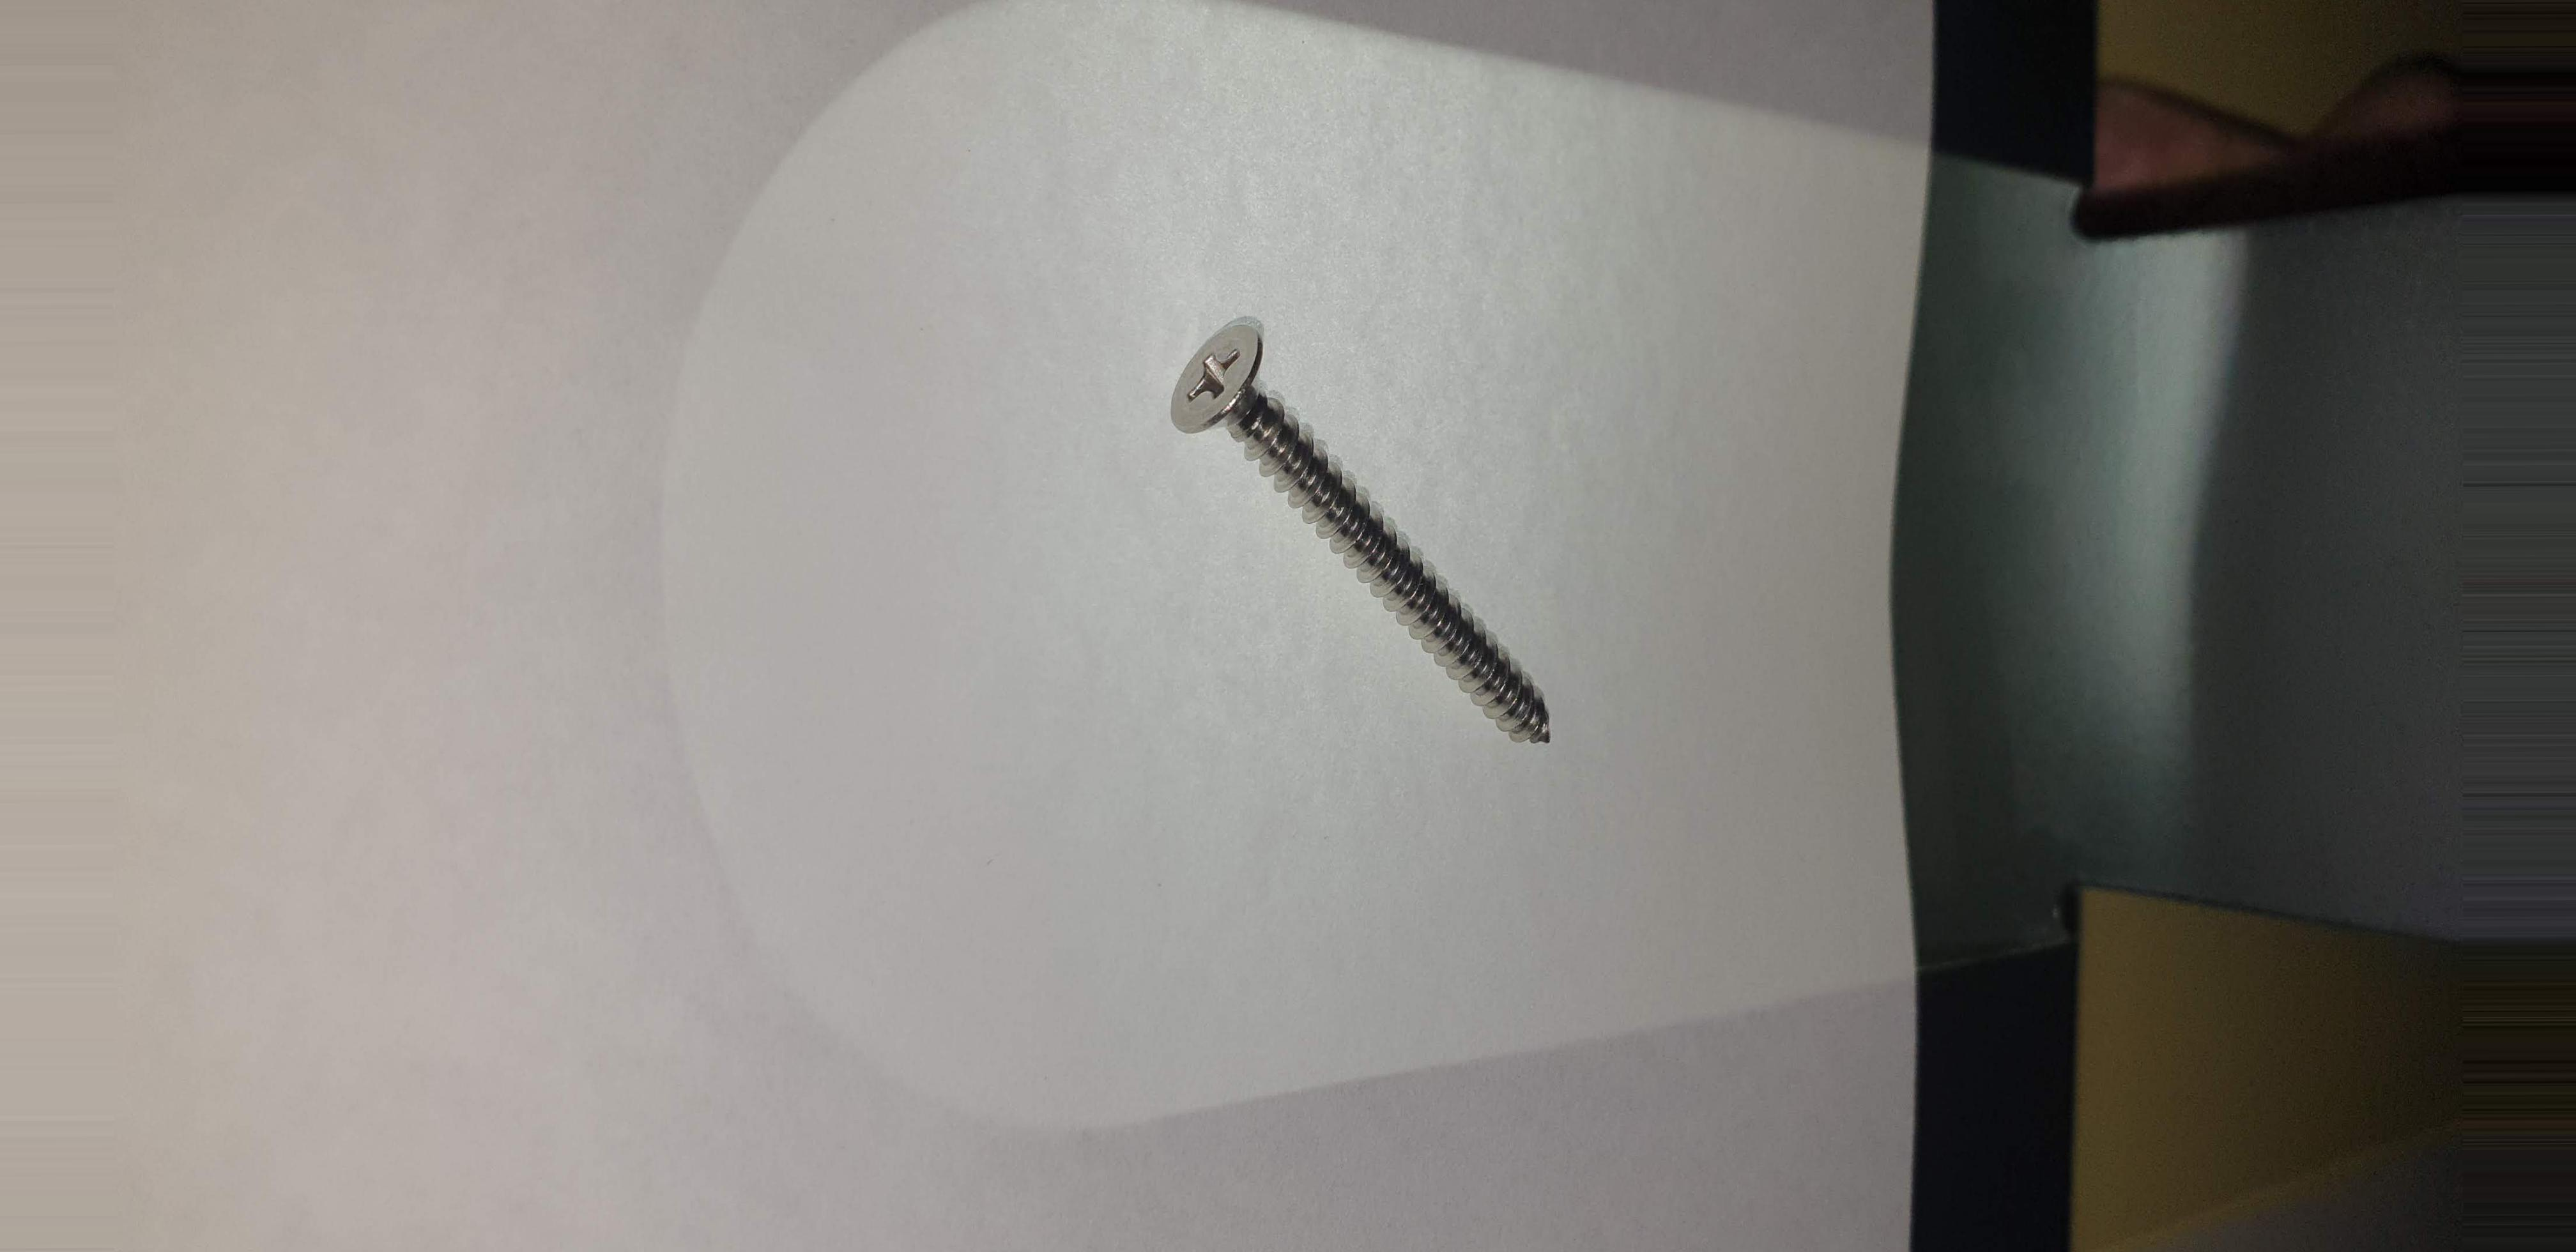fastener: (1092, 273, 1644, 784)
